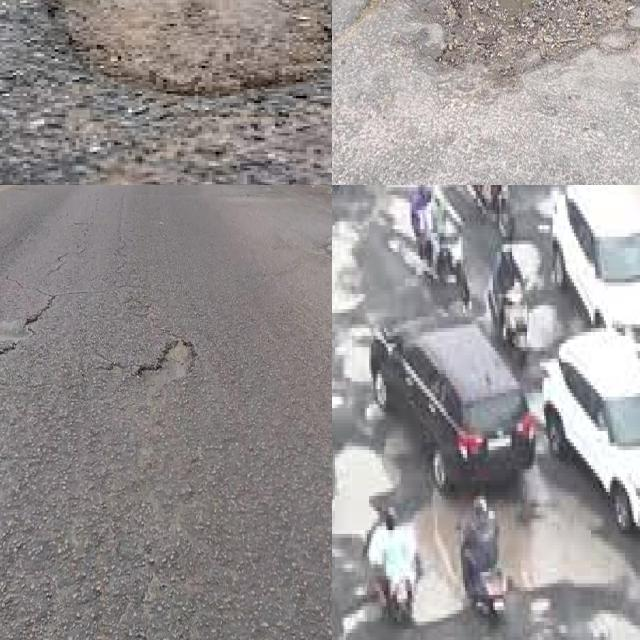Pothole: (446, 0, 626, 75), (510, 507, 627, 587), (412, 496, 463, 625), (332, 446, 386, 538), (332, 222, 361, 313), (140, 339, 197, 380), (384, 185, 414, 237), (606, 622, 640, 640)
